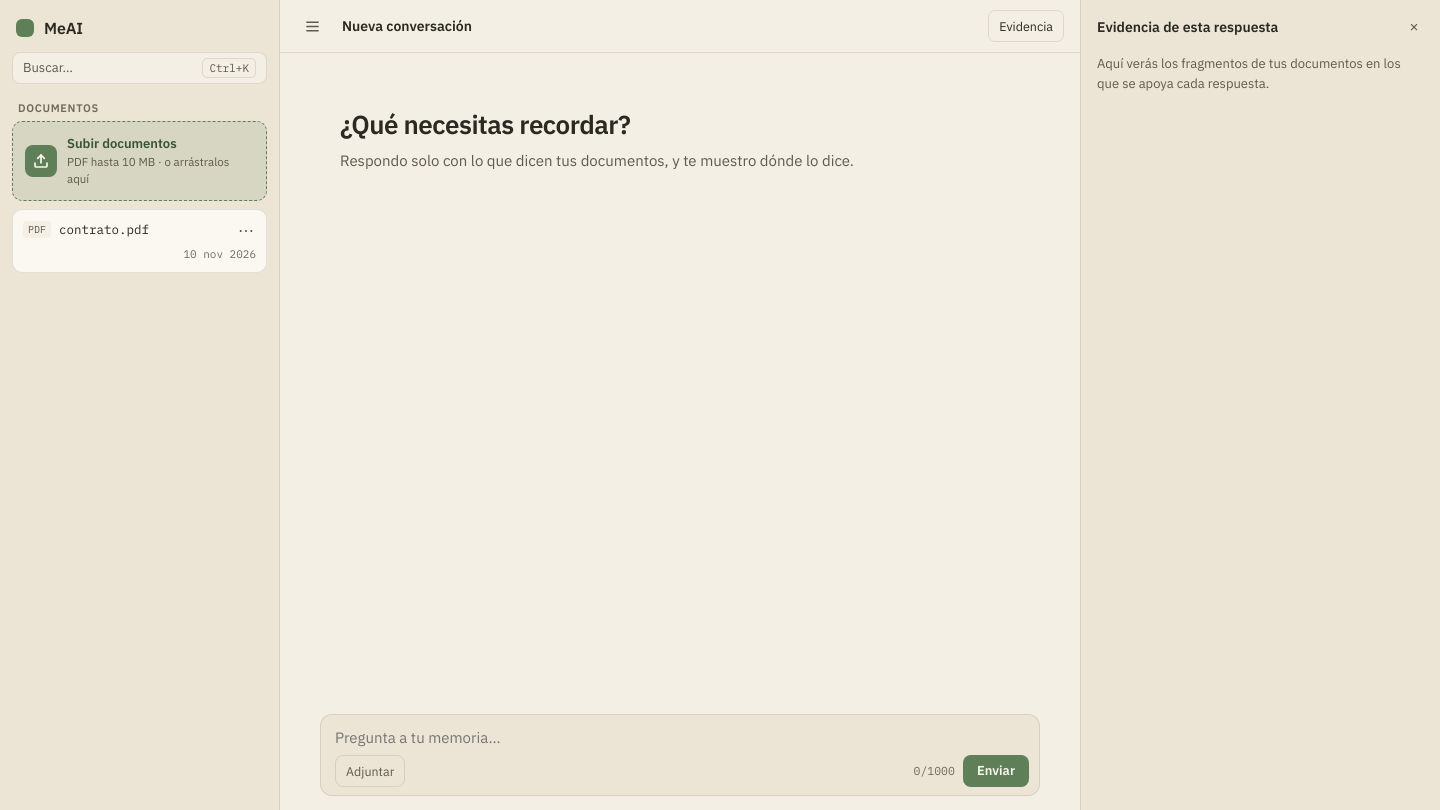
Test: asks for confirmation before deleting and cancels without calling DELETE
What coordinates should you click on to do the following:
click the button named "Más acciones de contrato.pdf"
I would click on:
 (246, 230)
Its box is left=230, top=214, right=262, bottom=246.
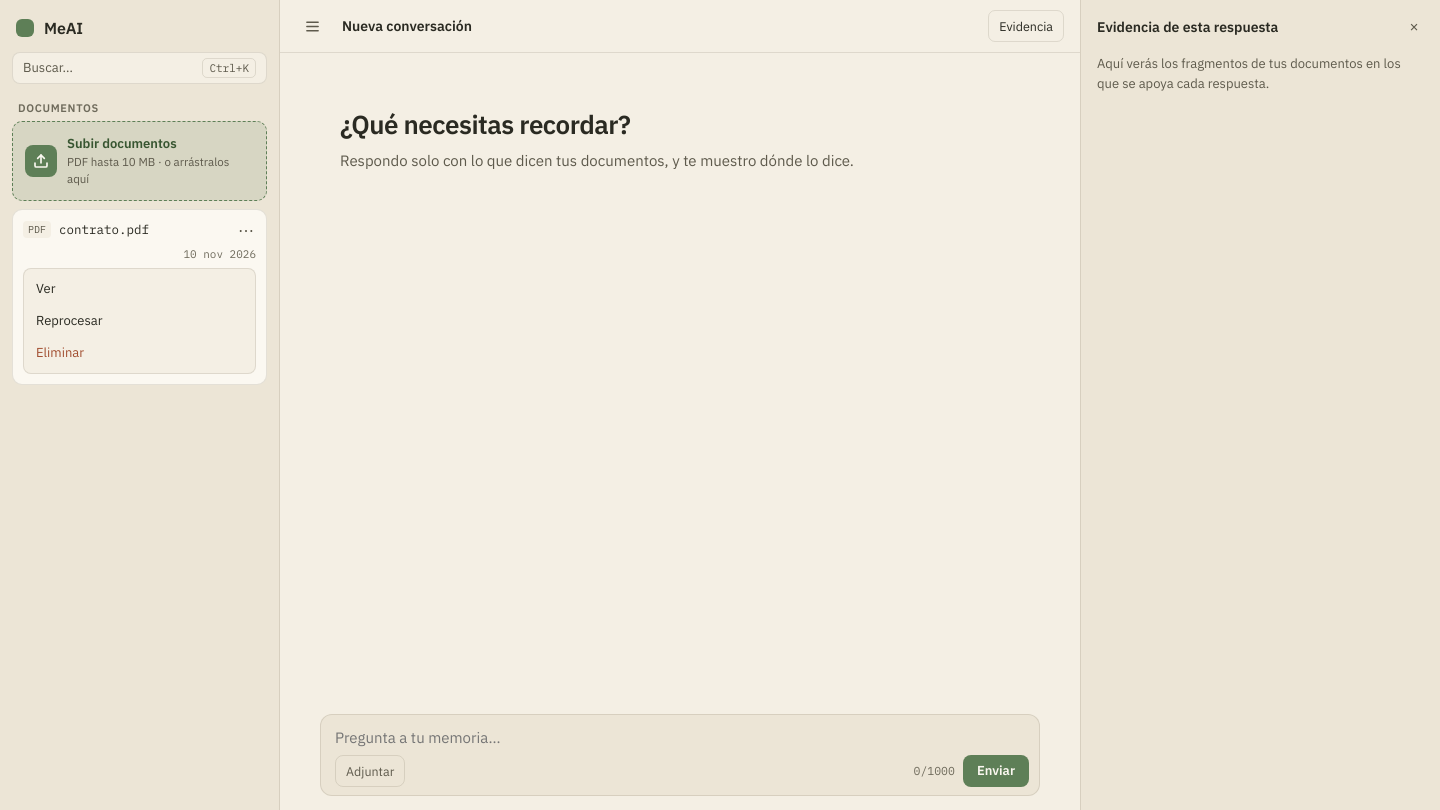
What coordinates should you click on to do the following:
click the menu item with aria-label "Eliminar contrato.pdf"
I would click on:
 (140, 353)
Its box is left=28, top=337, right=251, bottom=369.
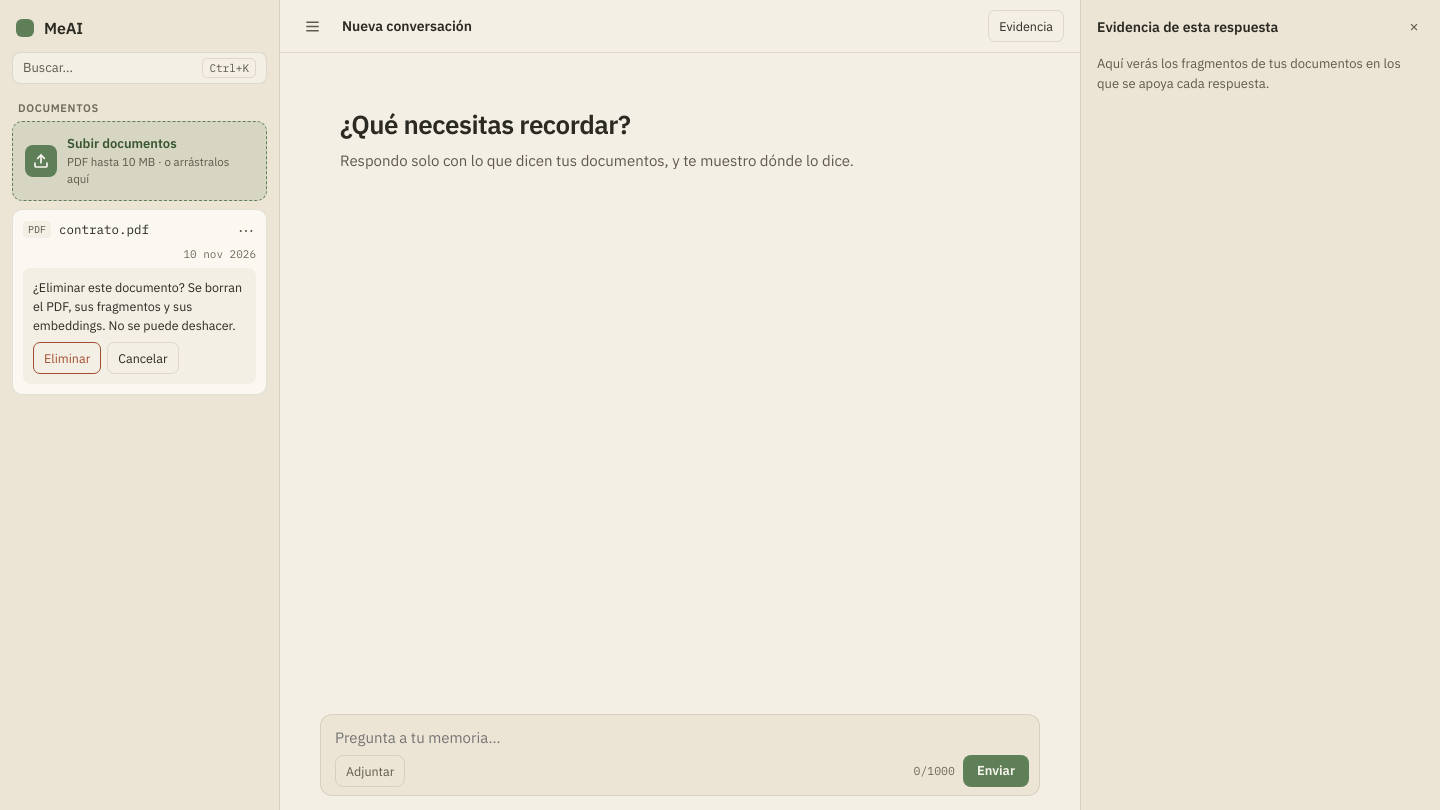
Expected: the text "¿Eliminar este documento? Se borran el PDF, sus fragmentos y sus embeddings. No se puede deshacer." is shown, left=33, top=279, right=242, bottom=332
Expected: the button with aria-label "Confirmar: eliminar contrato.pdf" is shown, left=33, top=342, right=101, bottom=374
What coordinates should you click on to do the following:
click the button "Cancelar"
I would click on:
 (143, 358)
Its box is left=107, top=342, right=178, bottom=374.
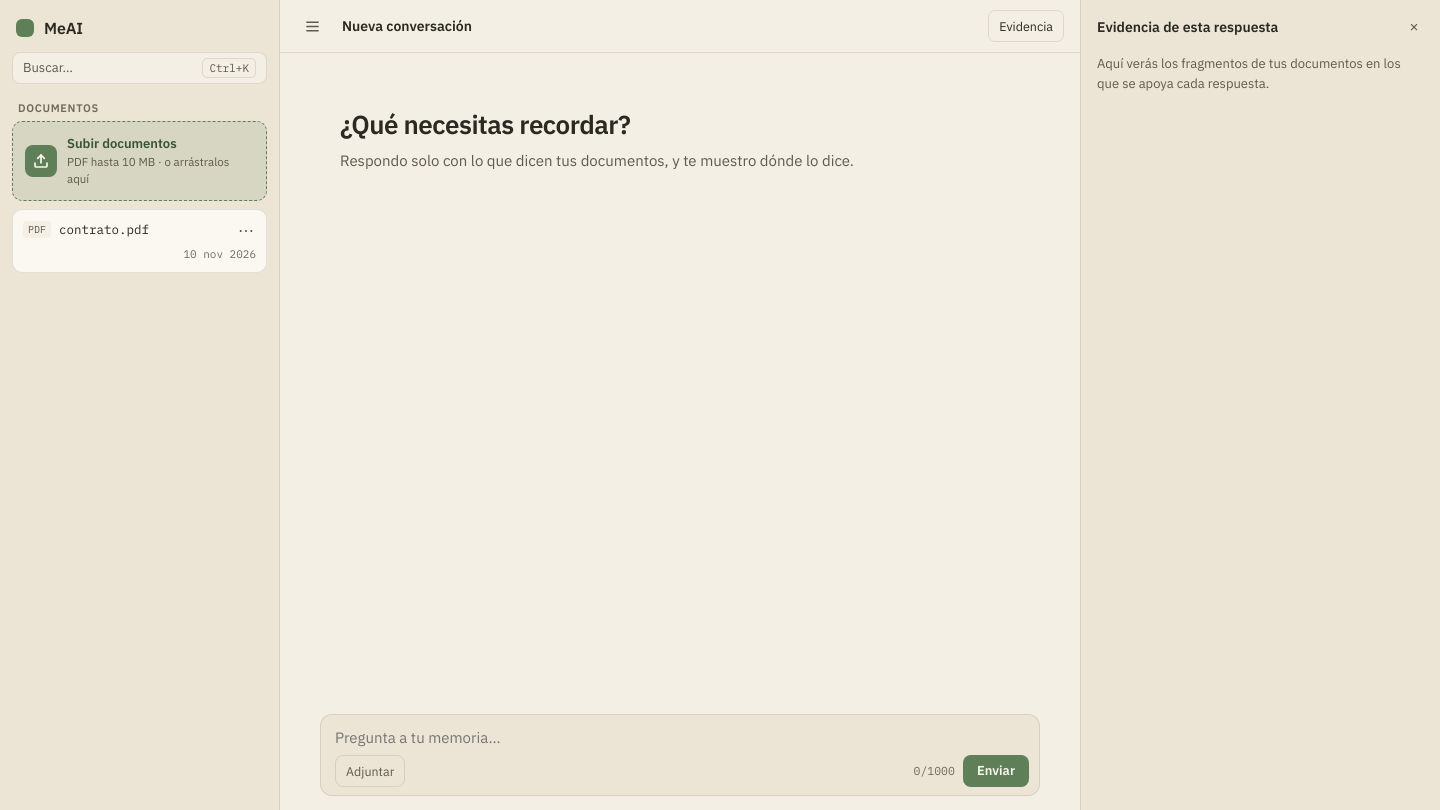
Expected: the element "contrato.pdf" is shown, left=12, top=208, right=267, bottom=273
Expected: the text "¿Eliminar este documento? Se borran el PDF, sus fragmentos y sus embeddings. No se puede deshacer." is gone
